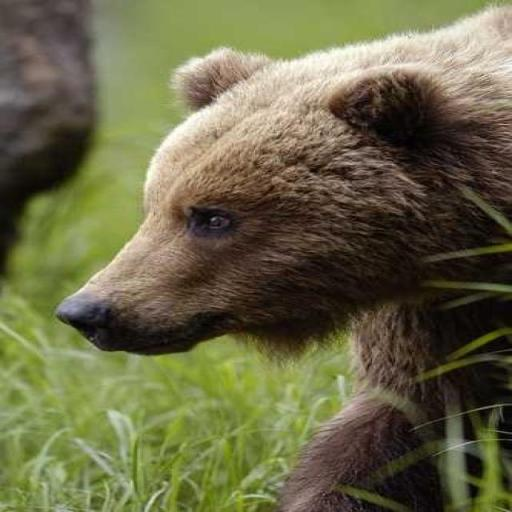Bear: (52, 1, 510, 511), (0, 0, 99, 290)
